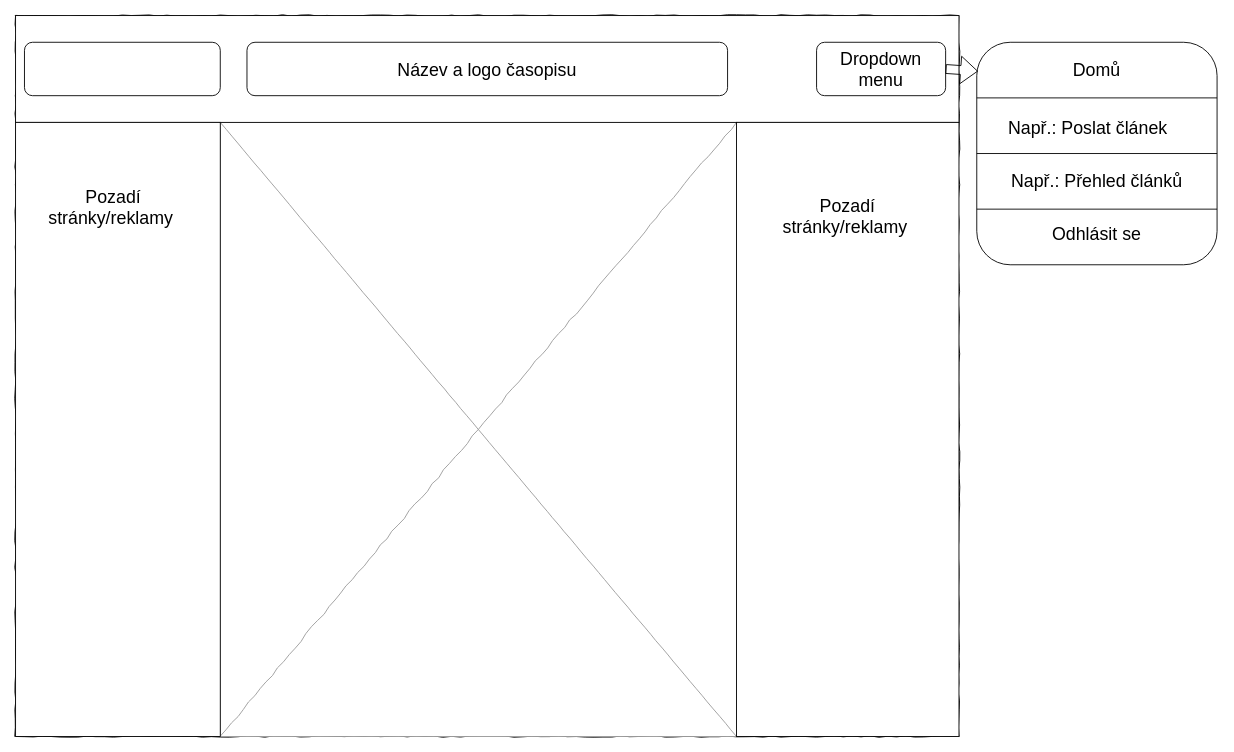
This 1234x752 diagram has some shape labels left out. The centre of each missing label's shape, as x and y in pixels:
Obsah zvolené stránky: (x=477, y=428)
Uvítání uživatele: (x=122, y=68)
